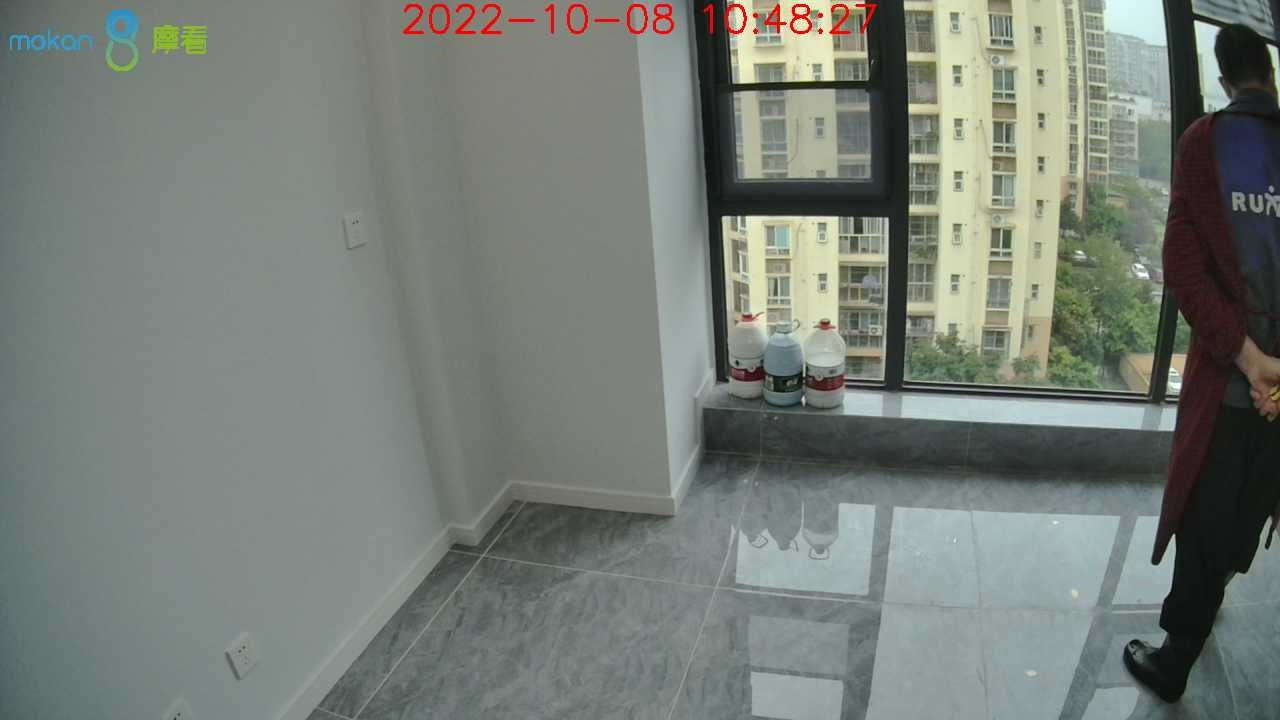people: (1122, 26, 1280, 703)
window: (703, 1, 1179, 398)
